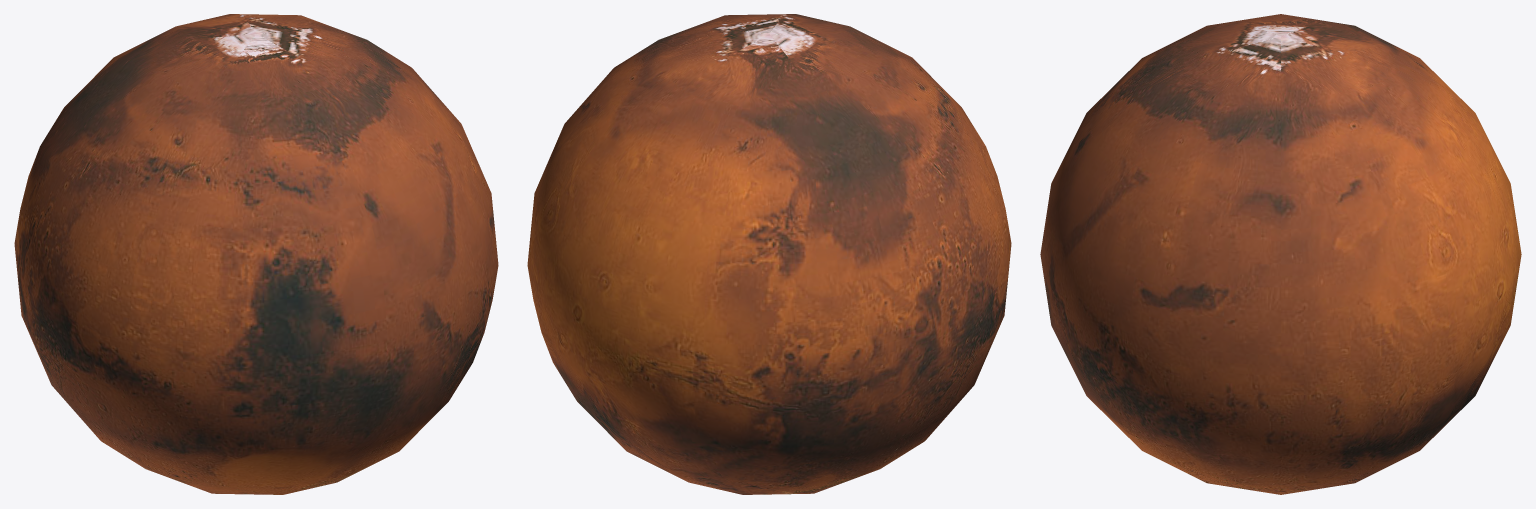
Rendered from mars.obj.
The picture shows the model from 3 angles, left to right: view 1: azimuth 30°, elevation 25°; view 2: azimuth 150°, elevation 25°; view 3: azimuth 270°, elevation 25°; orthographic projection.
Parts seen in each view (by area): view 1: GeoSphere001; view 2: GeoSphere001; view 3: GeoSphere001.
Part boxes in pixels (x1=…): GeoSphere001: x1=14, y1=14, x2=498, y2=494; GeoSphere001: x1=527, y1=14, x2=1011, y2=494; GeoSphere001: x1=1040, y1=14, x2=1521, y2=494.
Size of the model in its own units: 6.78 by 6.78 by 6.78.
